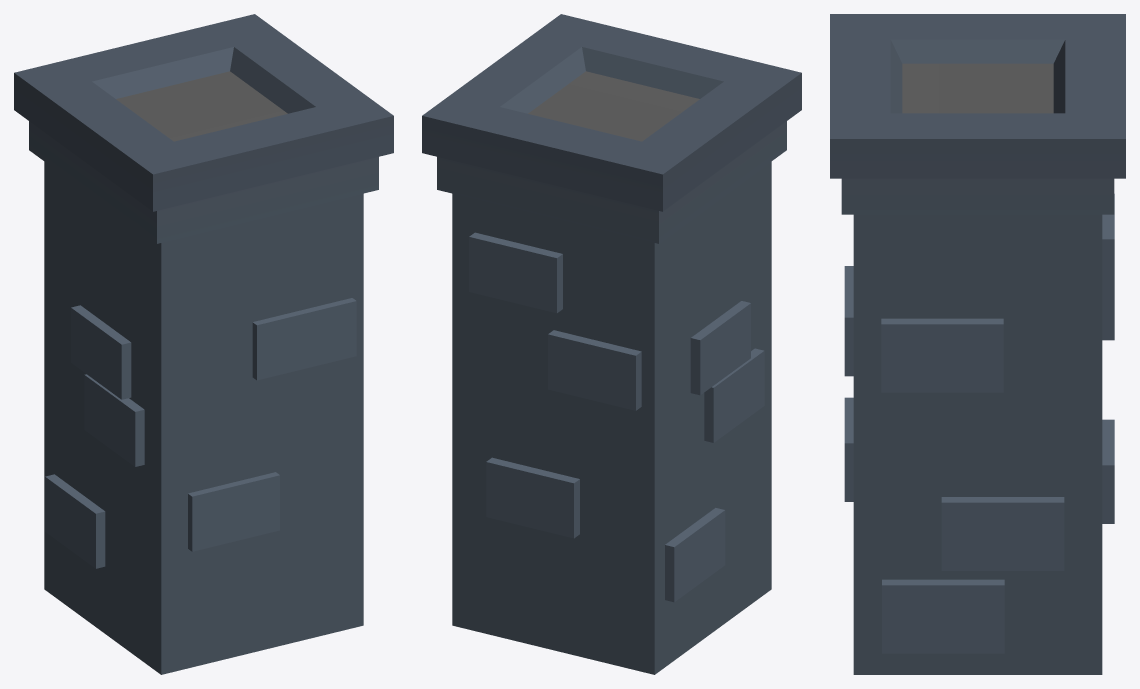
The model's file is Chimney_4_D_2.fbx.
3 views of the same model, side by side, from view 1: azimuth 30°, elevation 25°; view 2: azimuth 150°, elevation 25°; view 3: azimuth 270°, elevation 25° (orthographic). The views are drawn at different scales.
Visible parts, largest first — view 1: Chimney_4_D_2; view 2: Chimney_4_D_2; view 3: Chimney_4_D_2.
Boxes of the visible parts, x1,y1,x2,y2 form: Chimney_4_D_2: (14,14,393,674); Chimney_4_D_2: (422,14,801,674); Chimney_4_D_2: (830,14,1125,674).
Bounding box in the file's own units: 82.7 × 168 × 82.7.
